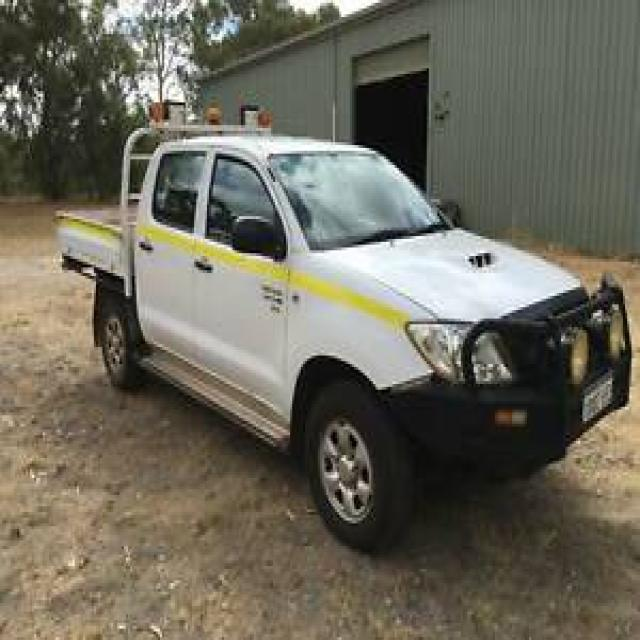light_vehicle: (56, 105, 625, 546)
